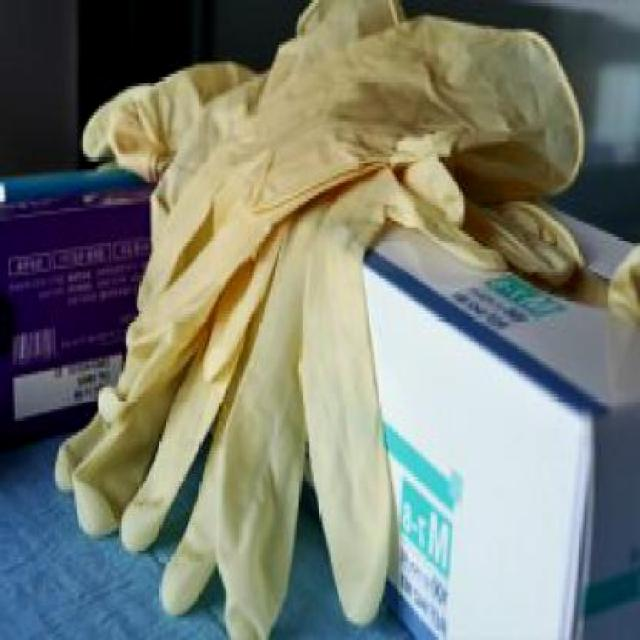glove: (49, 0, 583, 638)
